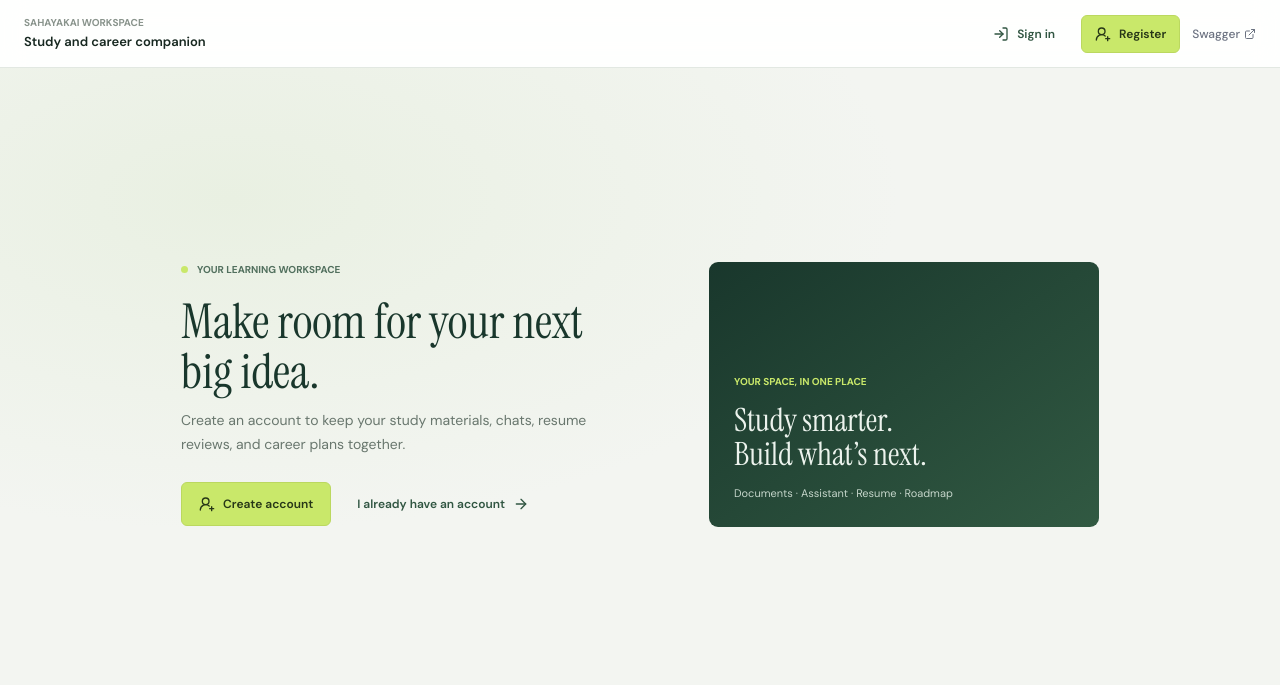
Test case: SahayakAI Frontend App › registers an account and unlocks the workspace
Click the button "Register" at (1131, 34), box left=1081, top=14, right=1180, bottom=52
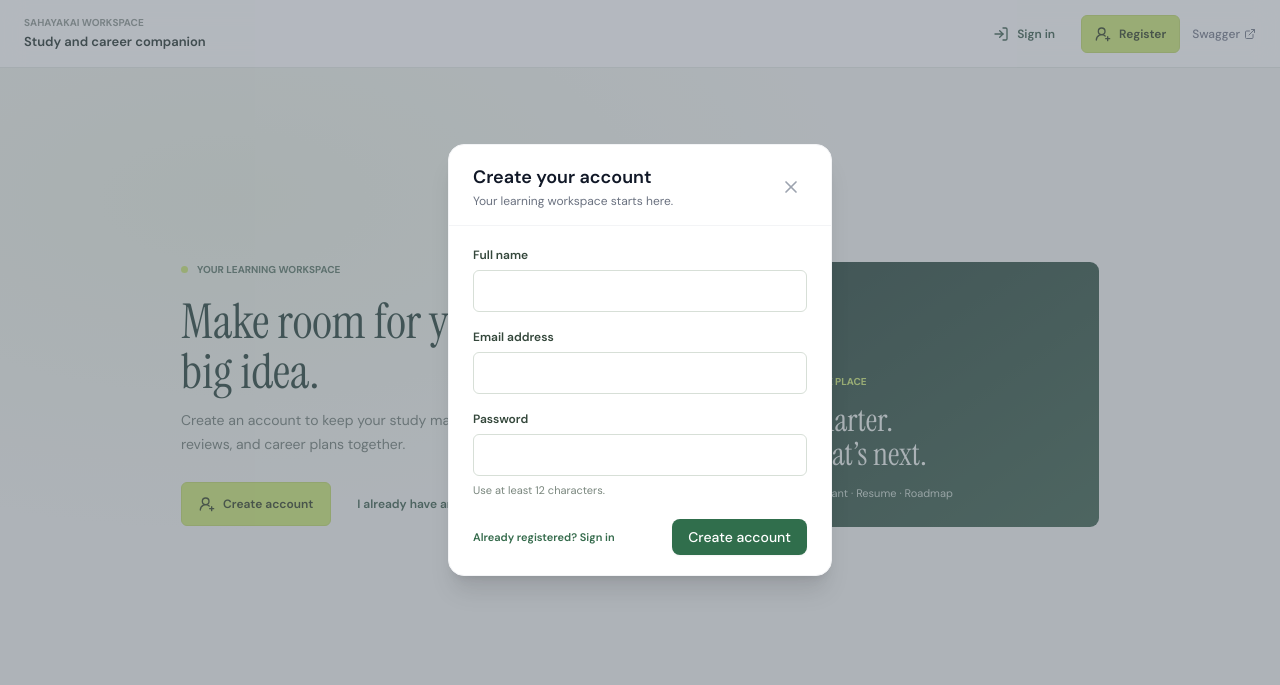
Type "Ada Student" into the field labelled "Full name" at (640, 291), box left=473, top=270, right=807, bottom=312
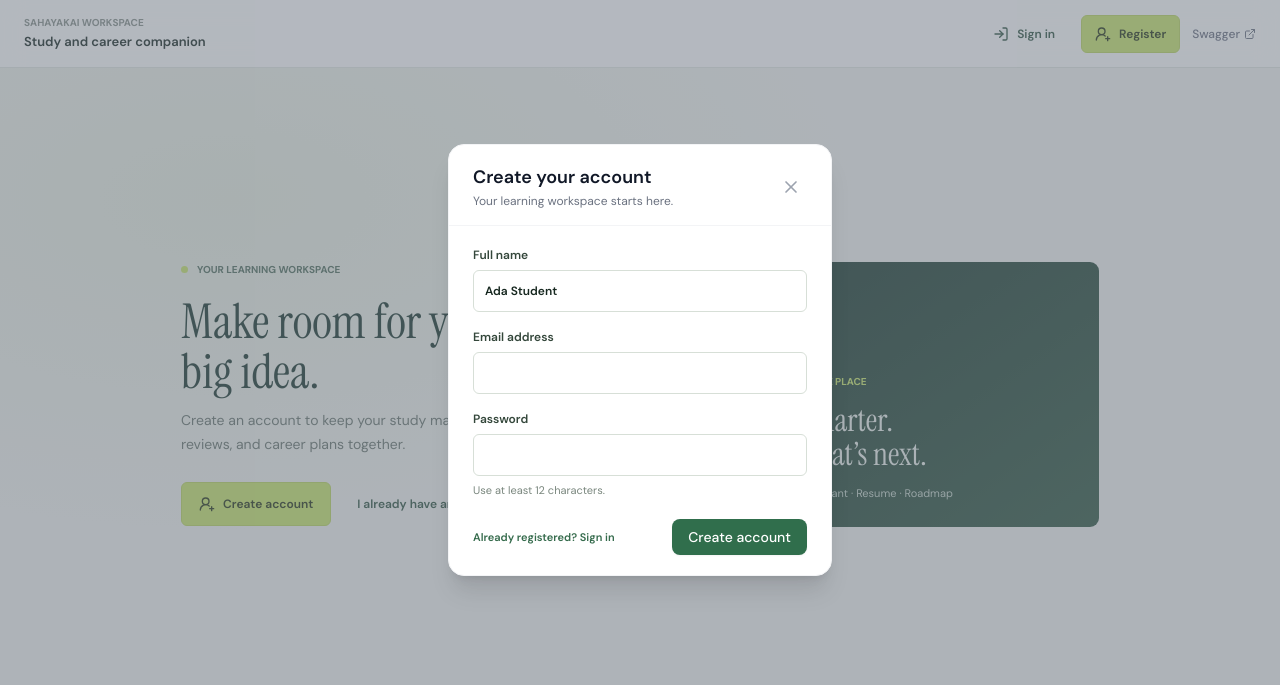
Type "ada@example.com" into the field labelled "Email address" at (640, 373), box left=473, top=352, right=807, bottom=394
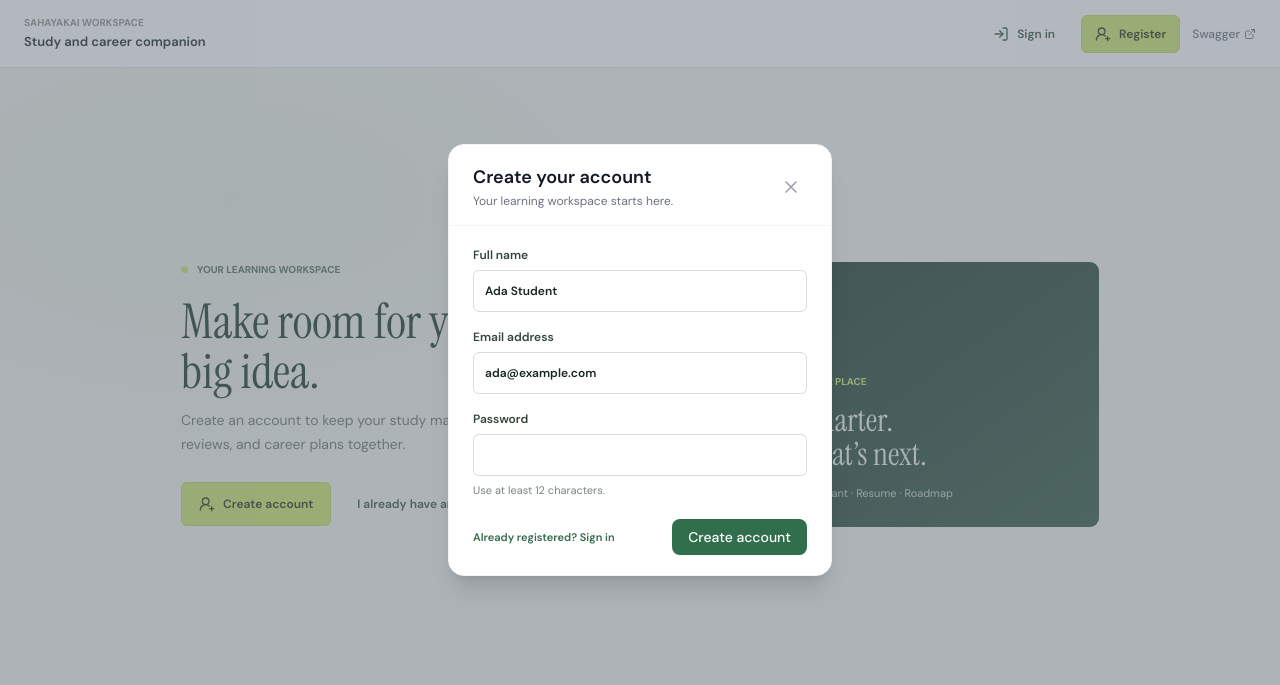
Type "correct-horse-battery-17" into the password field labelled "Password Use at least 12 characters." at (640, 455), box left=473, top=434, right=807, bottom=476
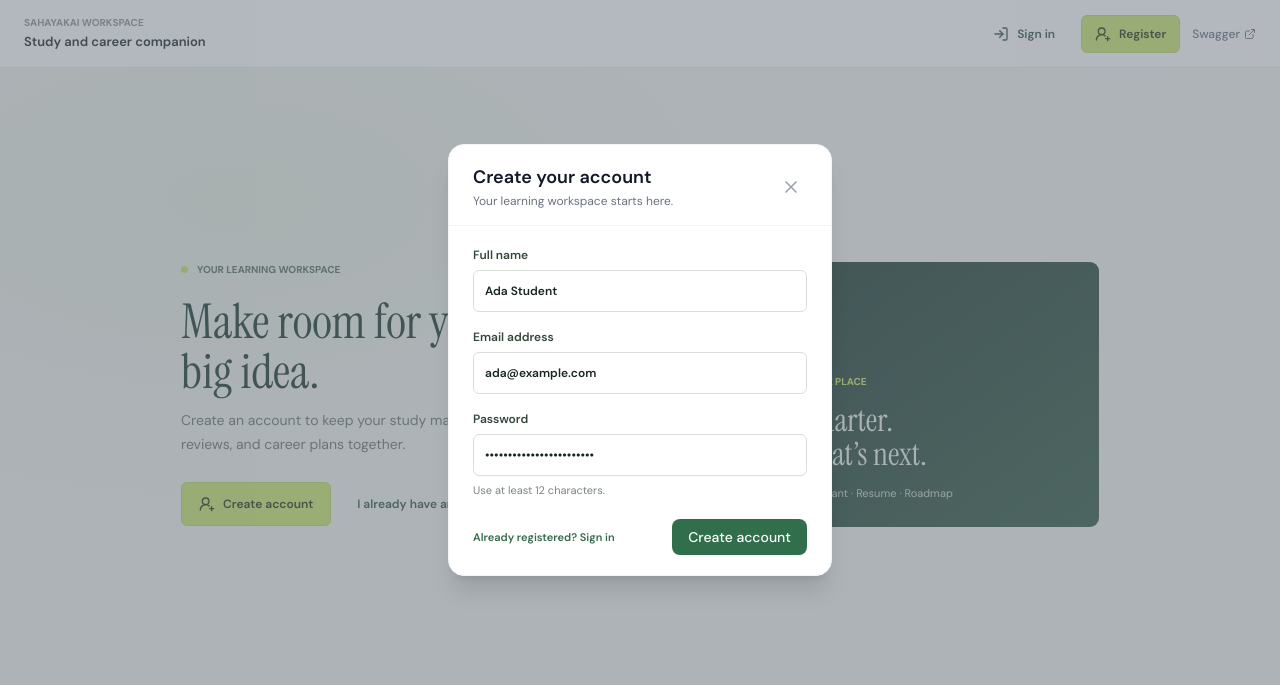
Click the button "Create account" at (740, 537), box left=672, top=519, right=807, bottom=555
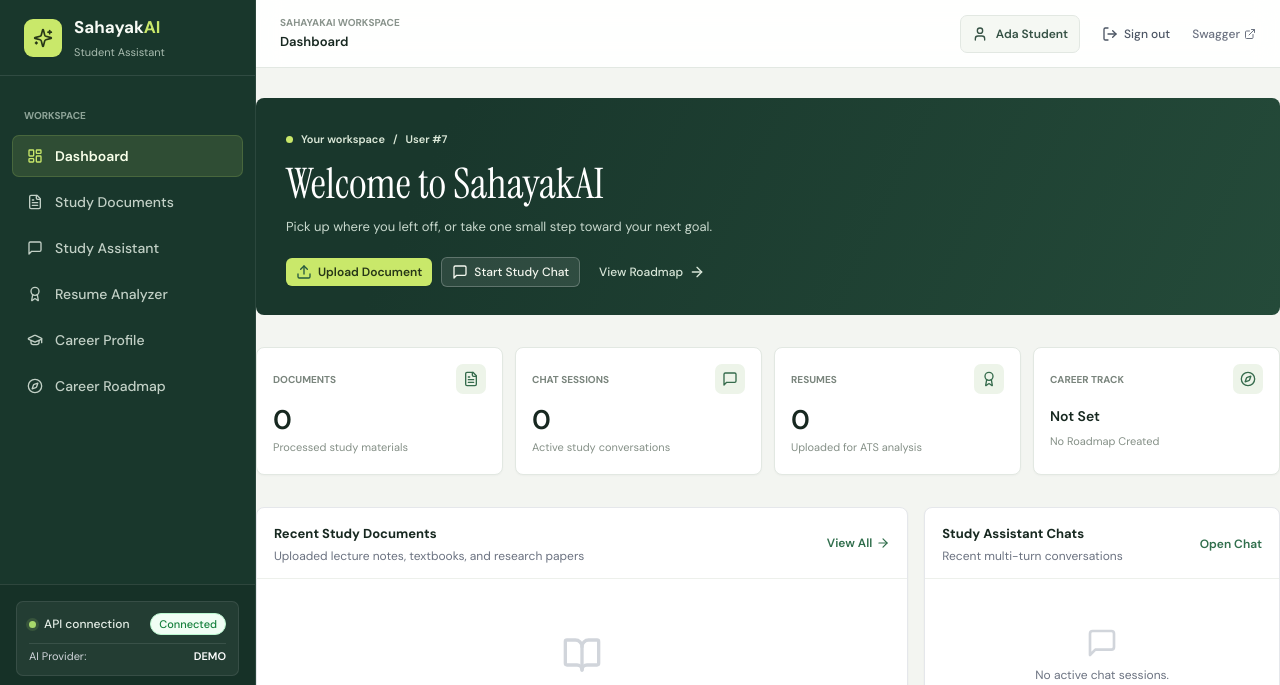
Check: the heading "Welcome to SahayakAI" is shown, box left=286, top=156, right=604, bottom=211
Check: the link "Study Documents" is shown, box left=27, top=193, right=174, bottom=211
